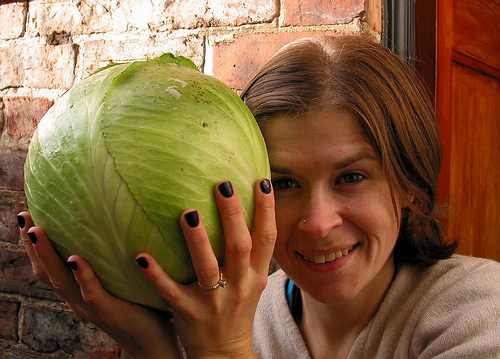cabbage: (23, 54, 270, 316)
